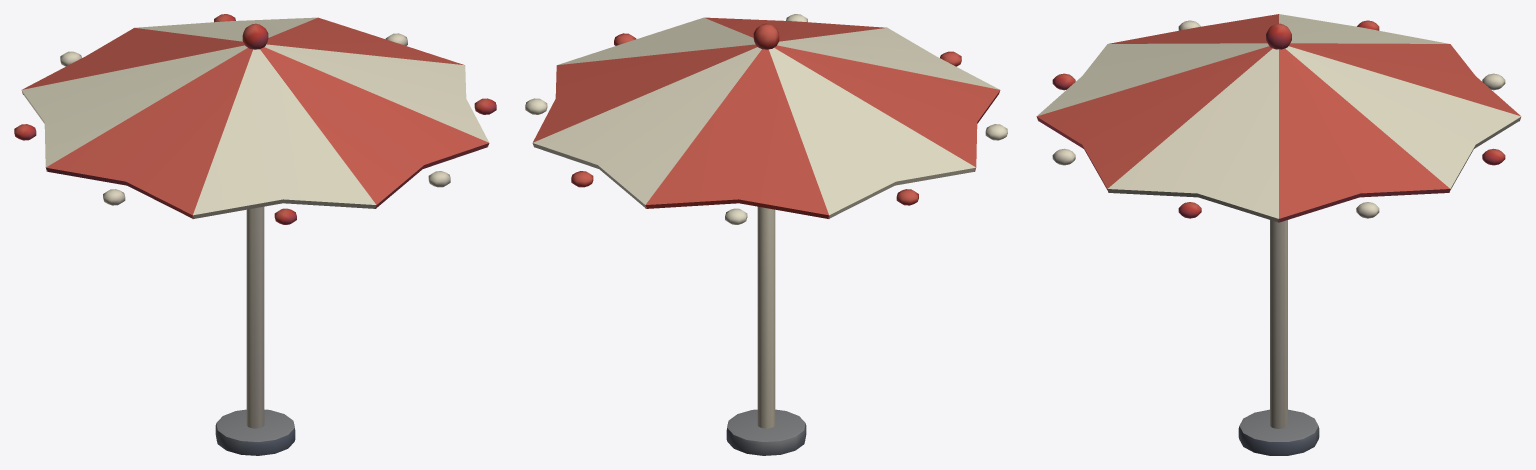
Rendered from Parasol.fbx.
3 views of the same model, side by side, from view 1: azimuth 30°, elevation 25°; view 2: azimuth 150°, elevation 25°; view 3: azimuth 270°, elevation 25° (orthographic).
Visible parts, largest first — view 1: SM_Yard_Parasol; view 2: SM_Yard_Parasol; view 3: SM_Yard_Parasol.
Part boxes in pixels (<box>): SM_Yard_Parasol: <box>14,14,496,455</box>; SM_Yard_Parasol: <box>525,14,1007,455</box>; SM_Yard_Parasol: <box>1036,14,1521,455</box>.
Size of the model in its own units: 7.2 by 6.8 by 7.2.
